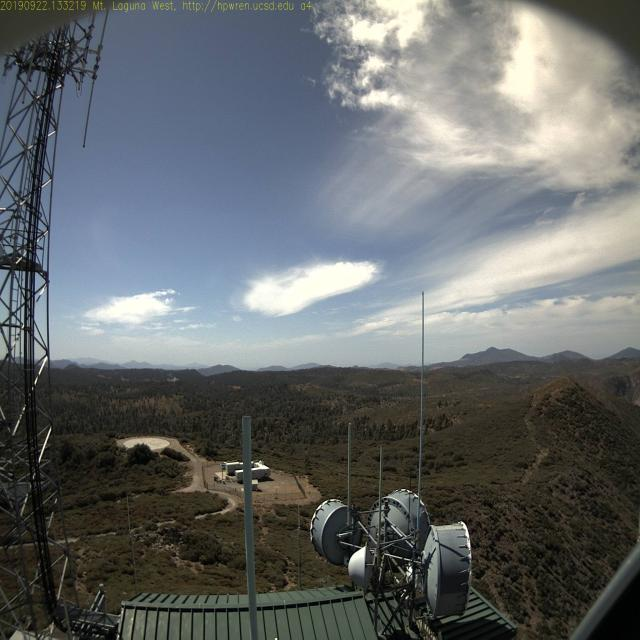smoke: (162, 366, 179, 385)
